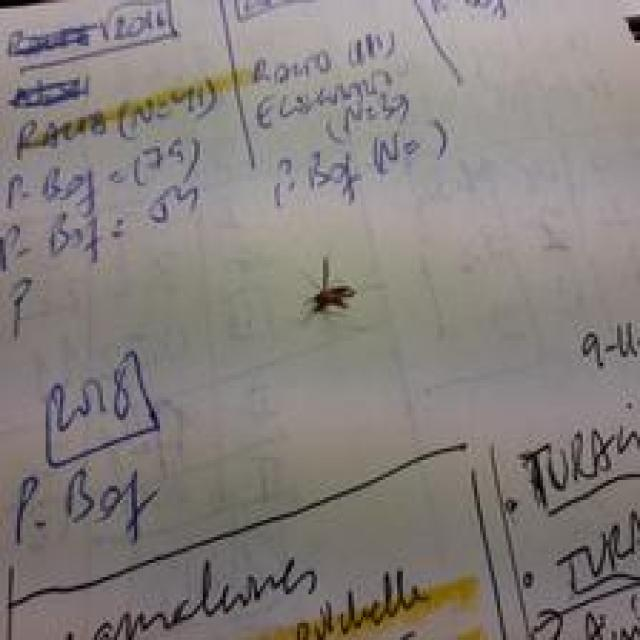Culex: (301, 256, 356, 316)
